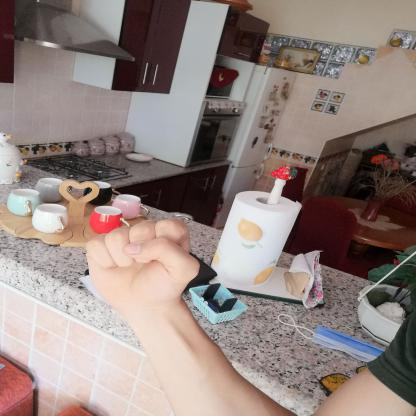SAD: (70, 210, 218, 324)
